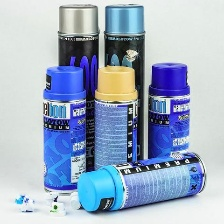aerosol_cans: (74, 147, 210, 215), (101, 0, 149, 184), (54, 1, 101, 178), (39, 63, 91, 198), (91, 62, 141, 189), (145, 58, 191, 179)
